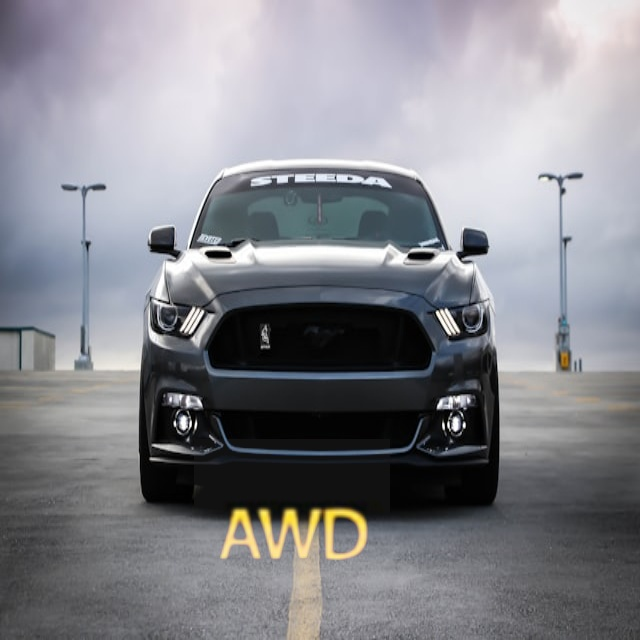symbol: (194, 439, 390, 635)
